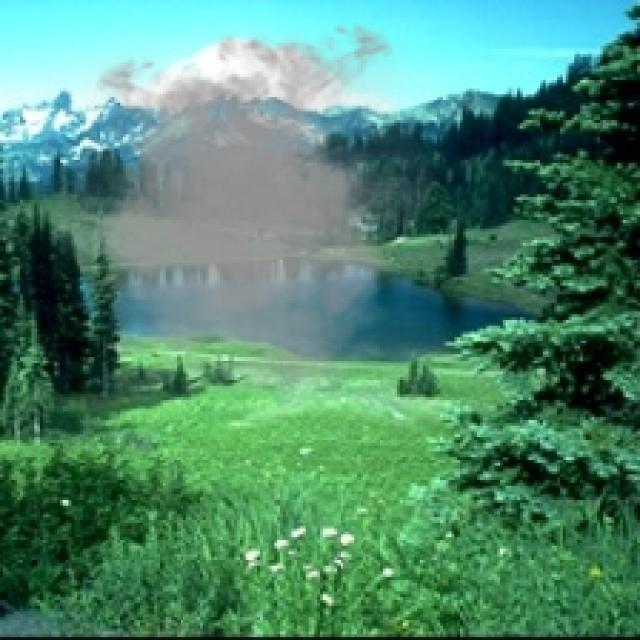smoke: (34, 12, 454, 394)
